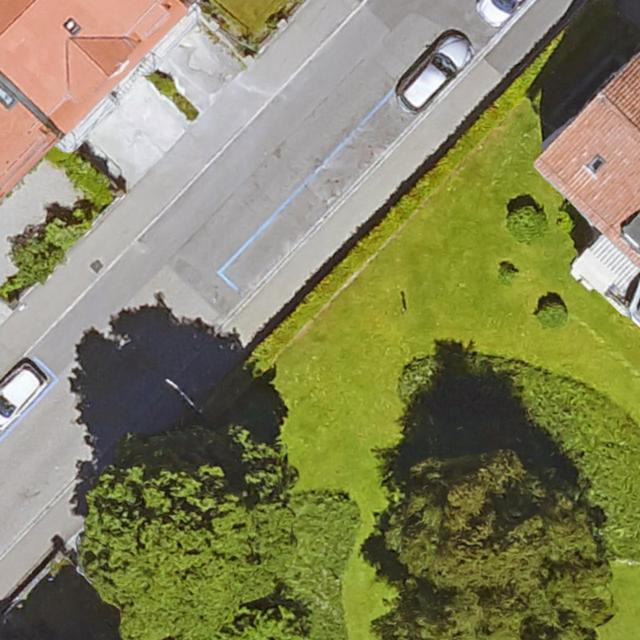tree: (86, 436, 293, 636), (391, 458, 611, 640), (211, 605, 306, 640)
